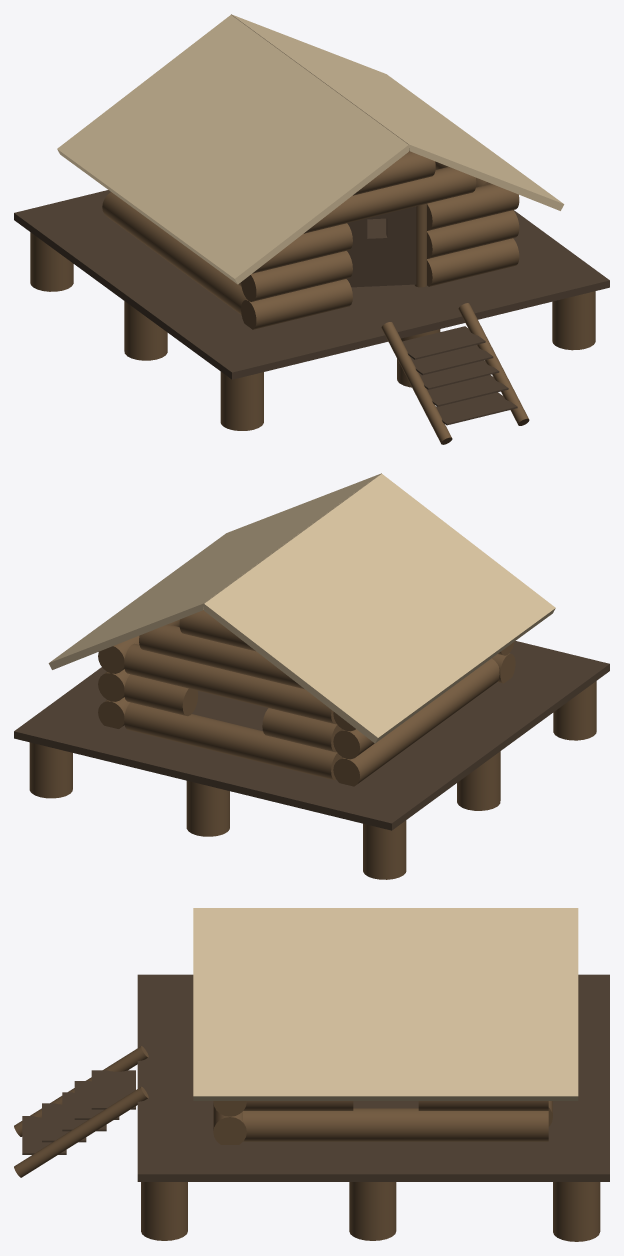
Rendered from kousin_tatemono_1.fbx.
3 renders of one model, top to bottom at view 1: azimuth 30°, elevation 25°; view 2: azimuth 150°, elevation 25°; view 3: azimuth 270°, elevation 25°, orthographic. The views are drawn at different scales.
Visible parts, largest first — view 1: pasted__pCube7, pasted__pCube1, pasted__pCube8, pCube3, pasted__pCylinder24, pasted__pCylinder7, pasted__pCylinder13, pasted__pCylinder14, pasted__pCylinder12, pasted__pCylinder15, pasted__pCylinder20, pasted__pCylinder2 (+13 smaller); view 2: pasted__pCube7, pasted__pCube1, pasted__pCube8, pasted__pCylinder6, pasted__pCylinder18, pasted__pCylinder7, pasted__pCylinder23, pasted__pCylinder3, pasted__pCylinder5, pasted__pCylinder35, pasted__pCylinder11, pasted__pCylinder30 (+7 smaller); view 3: pasted__pCube8, pasted__pCube1, pasted__pCylinder8, pasted__pCylinder5, pasted__pCylinder31, pasted__pCylinder4, pasted__pCylinder21, pasted__pCube2, pasted__pCylinder9, pasted__pCylinder28, pasted__pCylinder12, pasted__pCube5 (+4 smaller).
Boxes of the visible parts, x1=… form: pasted__pCube7: x1=57, y1=15, x2=408, y2=284; pasted__pCube1: x1=14, y1=190, x2=609, y2=379; pasted__pCube8: x1=231, y1=14, x2=564, y2=210; pCube3: x1=347, y1=206, x2=416, y2=287; pasted__pCylinder24: x1=304, y1=167, x2=476, y2=233; pasted__pCylinder7: x1=102, y1=192, x2=246, y2=314; pasted__pCylinder13: x1=241, y1=279, x2=352, y2=329; pasted__pCylinder14: x1=241, y1=251, x2=352, y2=301; pasted__pCylinder12: x1=427, y1=238, x2=519, y2=286; pasted__pCylinder15: x1=427, y1=210, x2=519, y2=258; pasted__pCylinder20: x1=427, y1=184, x2=519, y2=230; pasted__pCylinder2: x1=220, y1=372, x2=263, y2=430; pasted__pCube7: x1=203, y1=474, x2=555, y2=743; pasted__pCube1: x1=14, y1=641, x2=609, y2=830; pasted__pCube8: x1=48, y1=473, x2=381, y2=669; pasted__pCylinder6: x1=124, y1=702, x2=341, y2=780; pasted__pCylinder18: x1=124, y1=643, x2=336, y2=724; pasted__pCylinder7: x1=333, y1=658, x2=499, y2=786; pasted__pCylinder23: x1=139, y1=624, x2=304, y2=689; pasted__pCylinder3: x1=363, y1=820, x2=406, y2=879; pasted__pCylinder5: x1=29, y1=742, x2=72, y2=798; pasted__pCylinder35: x1=186, y1=781, x2=229, y2=836; pasted__pCylinder11: x1=262, y1=708, x2=341, y2=752; pasted__pCylinder30: x1=124, y1=674, x2=198, y2=716; pasted__pCube8: x1=193, y1=908, x2=578, y2=1100; pasted__pCube1: x1=137, y1=974, x2=609, y2=1181; pasted__pCylinder8: x1=243, y1=1108, x2=548, y2=1141; pasted__pCylinder5: x1=553, y1=1182, x2=600, y2=1241; pasted__pCylinder31: x1=349, y1=1182, x2=396, y2=1240; pasted__pCylinder4: x1=141, y1=1182, x2=187, y2=1240; pasted__pCylinder21: x1=14, y1=1086, x2=148, y2=1177; pasted__pCube2: x1=91, y1=1070, x2=135, y2=1109; pasted__pCylinder9: x1=418, y1=1101, x2=548, y2=1110; pasted__pCylinder28: x1=243, y1=1101, x2=353, y2=1110; pasted__pCylinder12: x1=213, y1=1103, x2=246, y2=1144; pasted__pCube5: x1=42, y1=1103, x2=86, y2=1142.
Size of the model in its own units: 1009 by 592 by 1272.
